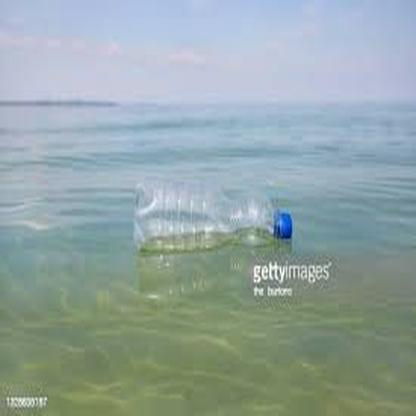plastic bottle: (132, 179, 294, 252)
